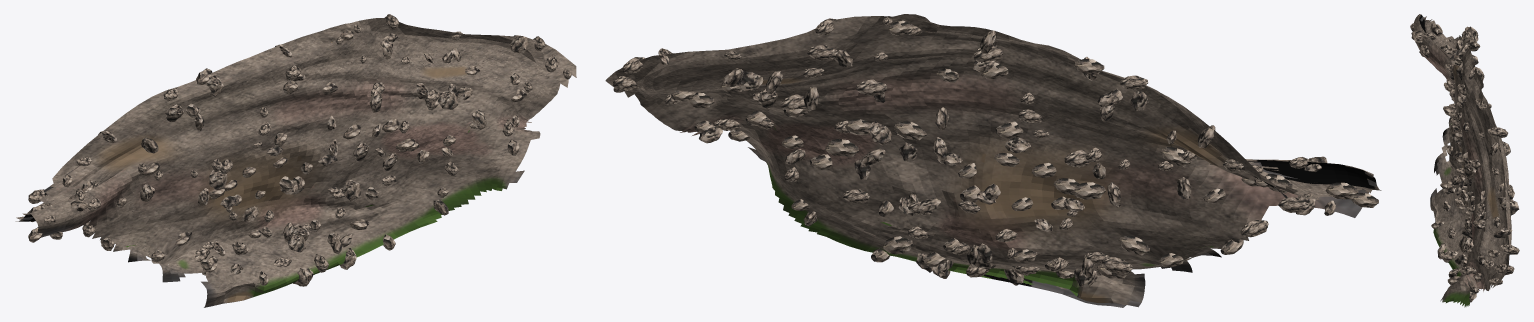
File: starting_level_terrain3.glb
The picture shows the model from 3 angles, left to right: view 1: azimuth 30°, elevation 25°; view 2: azimuth 150°, elevation 25°; view 3: azimuth 270°, elevation 25°; orthographic projection. The views are drawn at different scales.
Parts seen in each view (by area): view 1: Plane-col.001; view 2: Plane-col.001; view 3: Plane-col.001, Cube.001-col.010, Cube.003-col.001, Cube.001-col.018, Cube.001-col.001, Cube.003-col.035, Cube.003-col.042, Cube.001-col.024, Cube.003-col.045, Cube.019-col.008, Cube.003-col.050, Cube.019-col.003 (+12 smaller).
Part boxes in pixels (x1,y1,x2,y2): Plane-col.001: [15, 17, 576, 307]; Plane-col.001: [605, 14, 1381, 307]; Plane-col.001: [1412, 14, 1511, 307]; Cube.001-col.010: [1487, 127, 1508, 138]; Cube.003-col.001: [1458, 237, 1473, 253]; Cube.001-col.018: [1494, 263, 1514, 275]; Cube.001-col.001: [1500, 244, 1519, 254]; Cube.003-col.035: [1500, 199, 1519, 215]; Cube.003-col.042: [1464, 160, 1475, 179]; Cube.001-col.024: [1440, 250, 1458, 262]; Cube.003-col.045: [1493, 228, 1512, 237]; Cube.019-col.008: [1430, 23, 1442, 36]; Cube.003-col.050: [1468, 67, 1484, 81]; Cube.019-col.003: [1465, 39, 1480, 51].
Bounding box in the file's own units: 138 × 49.98 × 25.83.
4 materials, 4 textured.
